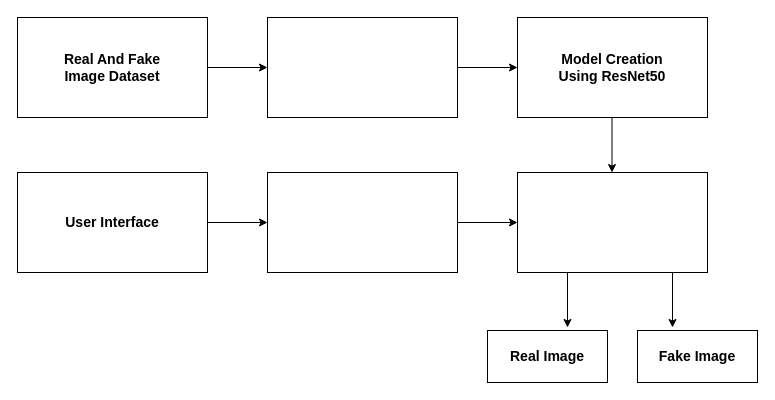
Some shapes in this 775 by 400 pixel diagram are drawn without their labels. The shapes that lost their labels are listed below. From the top down, each one's centre as x and y in pixels, then its label:
At (362,67): "Data Pre-processing".
At (362,222): "Input Image".
At (612,222): "Prediction Based On Model".
